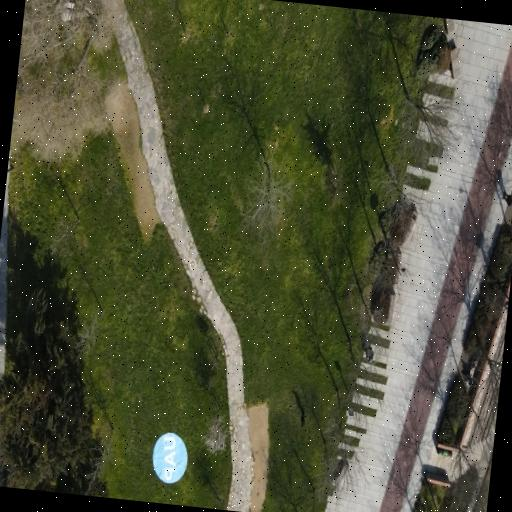car: (152, 432, 187, 484)
person: (504, 192, 511, 205), (301, 409, 305, 426)
